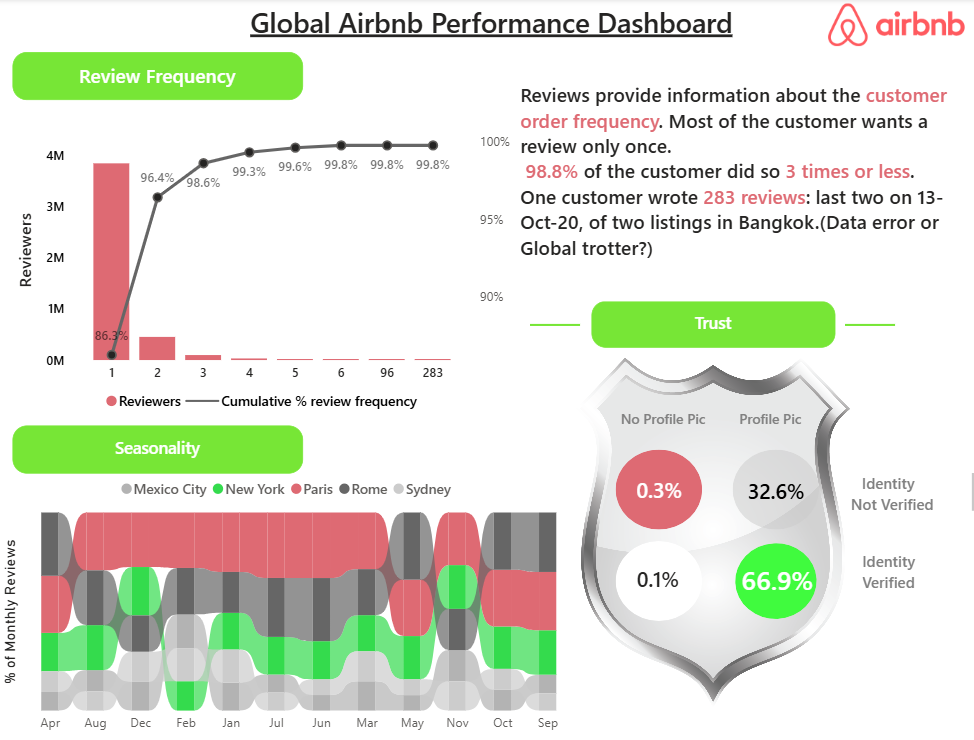

What the dashboard file says about the page in this screenshot:
{"tool":"powerbi","page":{"name":"Reviews","canvas":[960,720],"ordinal":2},"visuals":[{"type":"textbox","box":[217.7,0,524.6,102],"z":0},{"type":"image","box":[785.3,0,174.9,51.8],"z":1000},{"type":"textbox","box":[16.2,51.8,281.7,47],"z":2000},{"type":"lineStackedColumnComboChart","fields":{"Y":["Reviews.Reviewers"],"Y2":["Reviews.Cumulative % review frequency"],"Category":["Reviews.Reviews per Reviewer Column"]},"box":[16.2,123.1,487.4,286.6],"z":4000},{"type":"image","box":[430.7,317.4,529.5,403.2],"z":5000},{"type":"shape","box":[600.7,438.8,84.2,77.7],"z":6000},{"type":"shape","box":[714.1,438.8,84.2,77.7],"z":7000},{"type":"shape","box":[600.7,526.2,84.2,77.7],"z":8000},{"type":"shape","box":[714.1,526.2,84.2,77.7],"z":9000},{"type":"card","fields":{"Values":["Listings.Verified_Profile %"]},"box":[717.3,531.1,81,68],"z":10000},{"type":"card","fields":{"Values":["Listings.NotVerified_NoProfile %"]},"box":[615.3,455,55.1,47],"z":11000},{"type":"card","fields":{"Values":["Listings.NotVerified_Profile %"]},"box":[723.8,455,66.4,48.6],"z":12000},{"type":"ribbonChart","fields":{"Category":["Reviews.Review Month"],"Y":["Reviews.% of Monthly Reviews"],"Series":["Listings.city"]},"box":[0,455,566.7,265.6],"z":13000},{"type":"card","fields":{"Values":["Listings.Verified_NoProfile %"]},"box":[607.2,527.9,69.6,72.9],"z":14000},{"type":"textbox","box":[578.1,294.7,236.4,45.3],"z":15000},{"type":"textbox","box":[820.9,455,139.3,48.6],"z":15001},{"type":"textbox","box":[835.5,531.1,74.5,58.3],"z":15002},{"type":"textbox","box":[600.7,393.5,97.2,32.4],"z":15003},{"type":"textbox","box":[715.7,393.5,74.5,32.4],"z":15004},{"type":"shape","box":[824.2,231.5,48.6,171.6],"z":15005},{"type":"shape","box":[518.2,231.5,48.6,171.6],"z":15006},{"type":"textbox","box":[503.6,76.1,456.6,218.6],"z":15007},{"type":"textbox","box":[16.2,414.5,281.7,47],"z":15008}]}

Visuals, with their boxes in screenshot pixels (x1, y1, x2, y2), scaled from the page's 960x720 canvas onto the 974x740 screenshot:
textbox: l=221, t=0, r=753, b=105
image: l=797, t=0, r=973, b=53
textbox: l=16, t=53, r=302, b=102
lineStackedColumnComboChart - Reviews.Reviewers x Reviews.Cumulative % review frequency: l=16, t=127, r=511, b=421
image: l=437, t=326, r=973, b=739
shape: l=609, t=451, r=695, b=531
shape: l=725, t=451, r=810, b=531
shape: l=609, t=541, r=695, b=621
shape: l=725, t=541, r=810, b=621
card - Listings.Verified_Profile %: l=728, t=546, r=810, b=616
card - Listings.NotVerified_NoProfile %: l=624, t=468, r=680, b=516
card - Listings.NotVerified_Profile %: l=734, t=468, r=802, b=518
ribbonChart - Reviews.Review Month x Reviews.% of Monthly Reviews: l=0, t=468, r=575, b=739
card - Listings.Verified_NoProfile %: l=616, t=543, r=687, b=617
textbox: l=587, t=303, r=826, b=349
textbox: l=833, t=468, r=973, b=518
textbox: l=848, t=546, r=923, b=606
textbox: l=609, t=404, r=708, b=438
textbox: l=726, t=404, r=802, b=438
shape: l=836, t=238, r=886, b=414
shape: l=526, t=238, r=575, b=414
textbox: l=511, t=78, r=973, b=303
textbox: l=16, t=426, r=302, b=474
